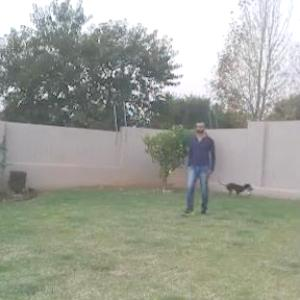follow: (186, 118, 214, 214)
